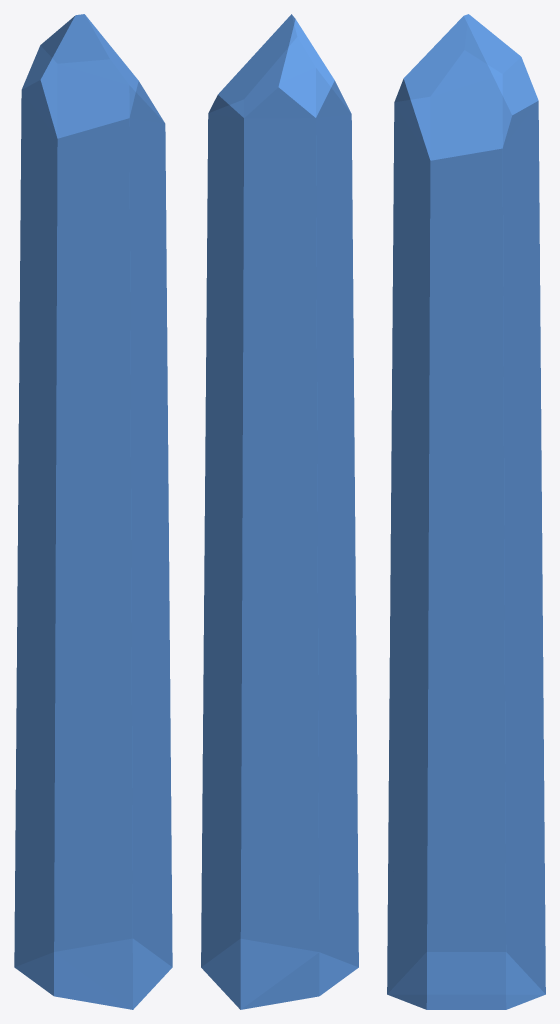
Rendered from Crystal_m_08.fbx.
3 renders of one model, left to right at view 1: azimuth 30°, elevation 25°; view 2: azimuth 150°, elevation 25°; view 3: azimuth 270°, elevation 25°, orthographic.
Visible parts, largest first — view 1: Crystal_m_08; view 2: Crystal_m_08; view 3: Crystal_m_08.
Part boxes in pixels (left/top/right/bottom): Crystal_m_08: left=14, top=14, right=172, bottom=1009; Crystal_m_08: left=201, top=14, right=358, bottom=1009; Crystal_m_08: left=387, top=14, right=545, bottom=1009.
Bounding box in the file's own units: 0.3641 × 2.85 × 0.4204.
